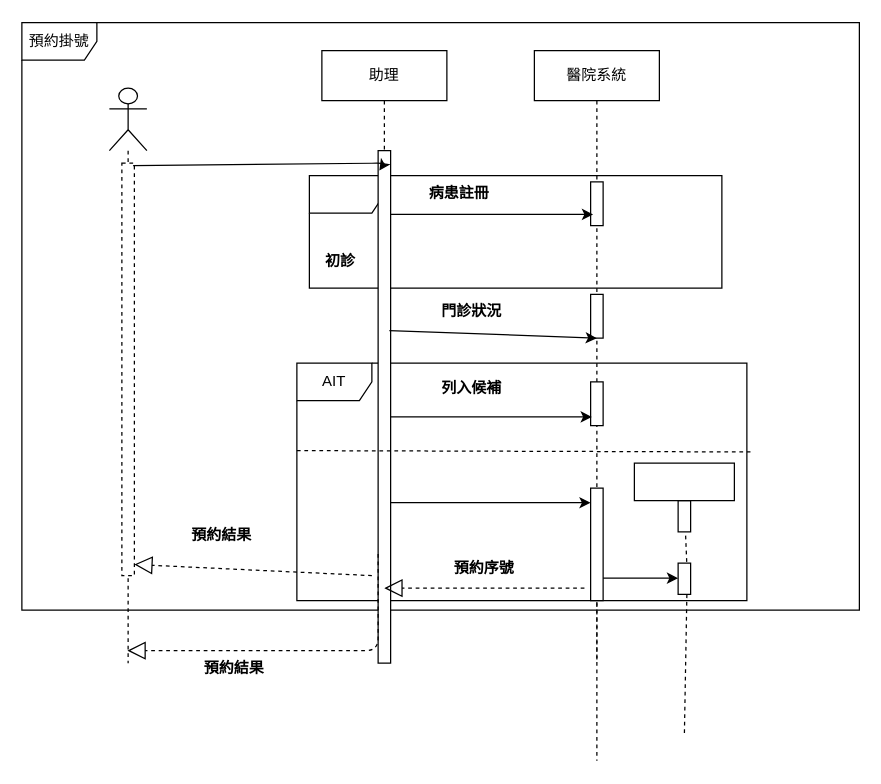
Some shapes in this 881 by 784 pixel diagram are drawn without their labels. The box of each missing label's shape, as (x1, y1, x2, y2) in pixels:
OPT: (308, 174, 722, 288)
預約單: (633, 462, 734, 501)
